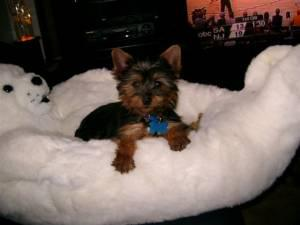dog-yorkshire_terrier: (110, 43, 180, 111)
